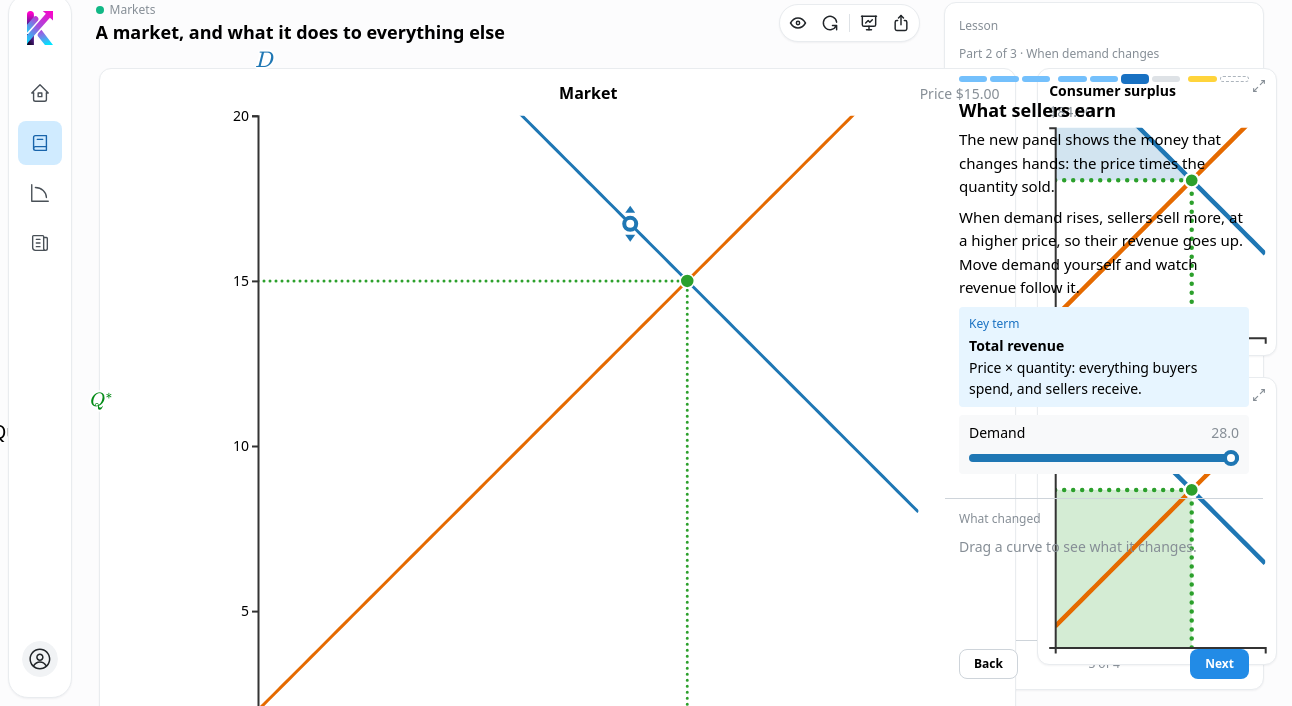
Test: Share › downloads the stage as a picture named for where the lesson is
Click the button named "Share". click: (902, 23)
box: [886,8,916,38]
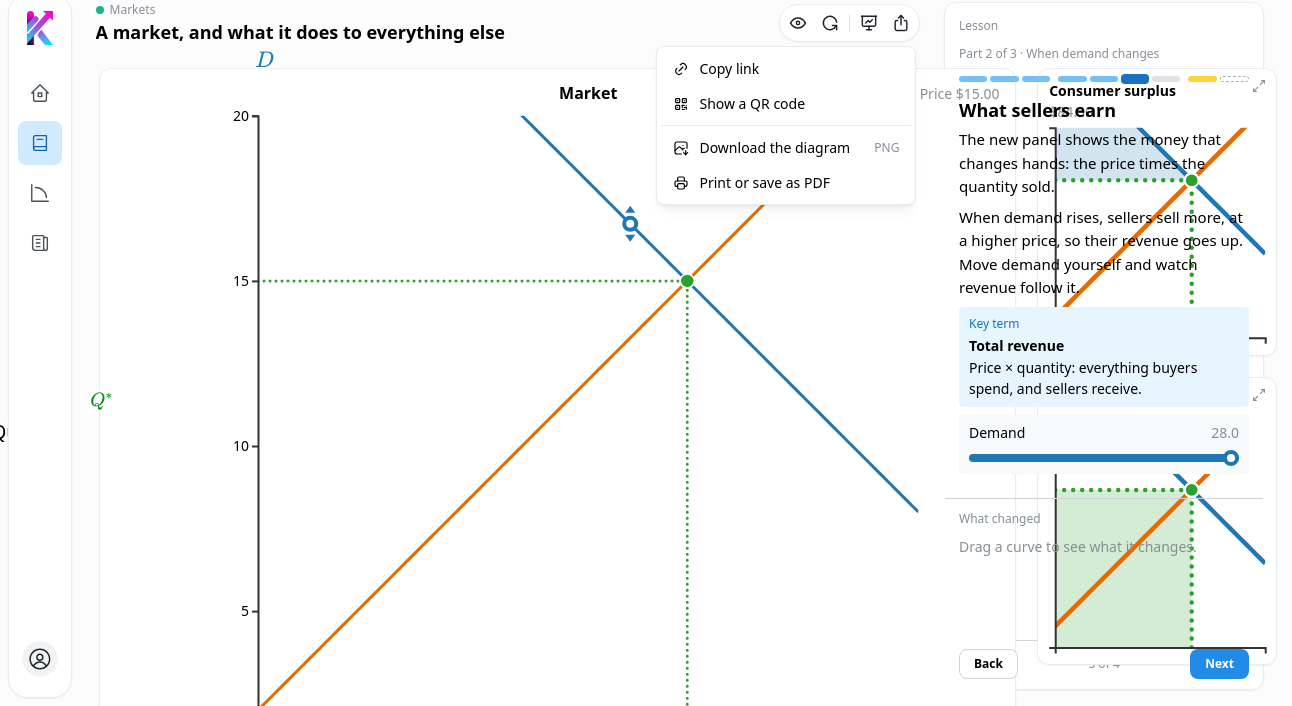
Click the menu item "Download the diagram PNG". click: (786, 148)
box: [662,130,912,165]
(page scrolled)
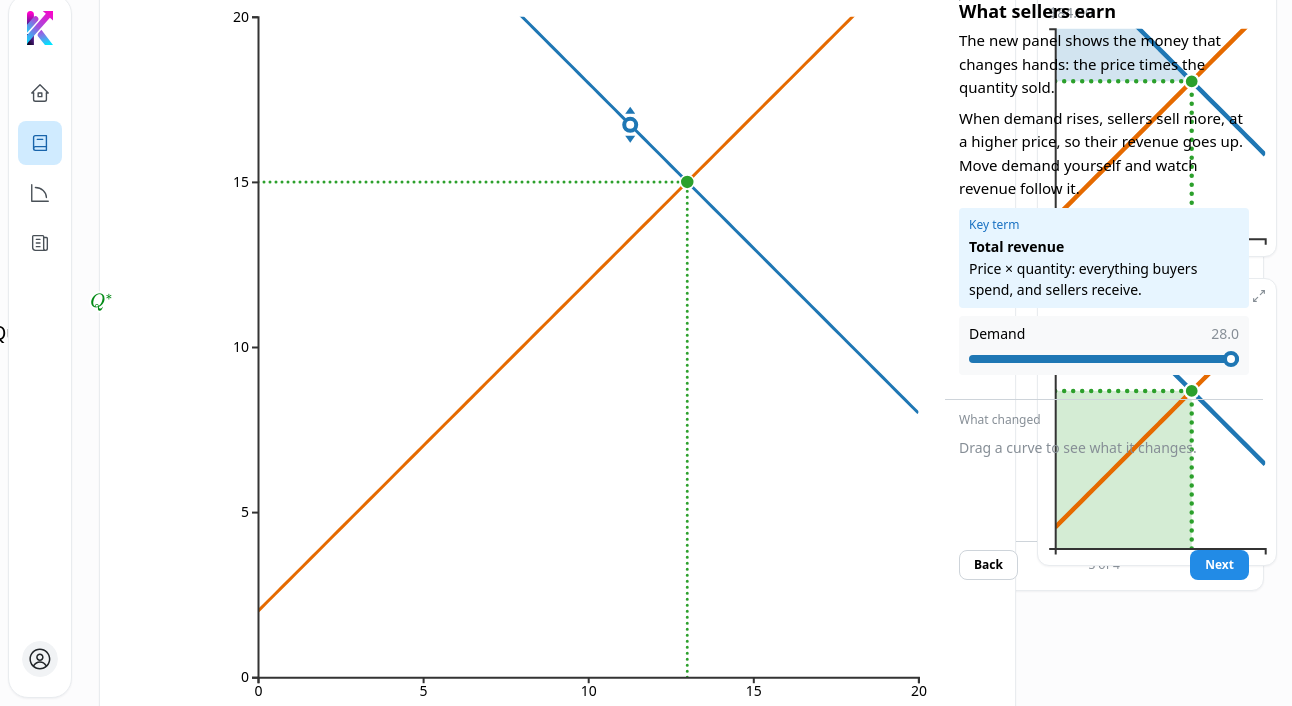
Expected: the element showing "Market Price $15.00" is shown, [258,17,918,677]
Expected: the menu is gone
